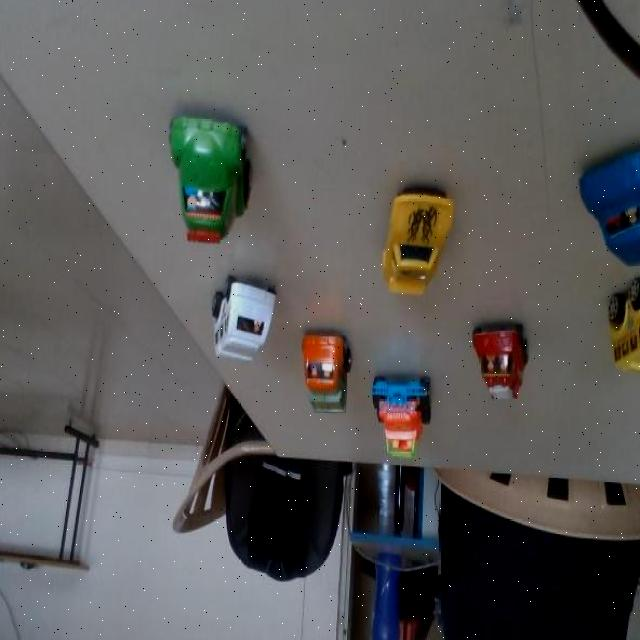car: (88, 37, 302, 291), (326, 159, 488, 308), (182, 246, 296, 386), (365, 367, 452, 475), (288, 314, 357, 434), (577, 144, 640, 265), (464, 312, 528, 405), (591, 271, 640, 373)
